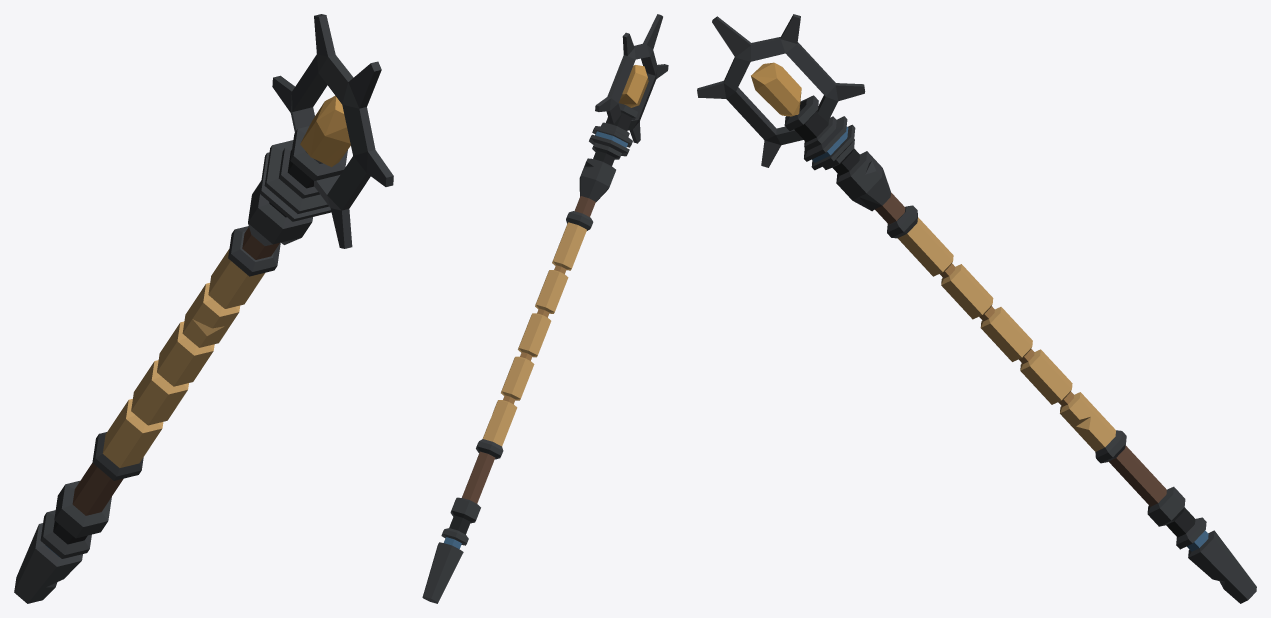
File: dr-staff-07.glb
3 views of the same model, side by side, from view 1: azimuth 30°, elevation 25°; view 2: azimuth 150°, elevation 25°; view 3: azimuth 270°, elevation 25° (orthographic). The views are drawn at different scales.
Visible parts, largest first — view 1: dr-staff-07; view 2: dr-staff-07; view 3: dr-staff-07.
Part boxes in pixels (box(x1,y1,x2,y2)): dr-staff-07: box(14, 14, 393, 603); dr-staff-07: box(422, 14, 668, 603); dr-staff-07: box(697, 14, 1256, 603).
Size of the model in its own units: 0.1374 by 1.2 by 1.06.
Materials: 1 (1 with a texture image).
